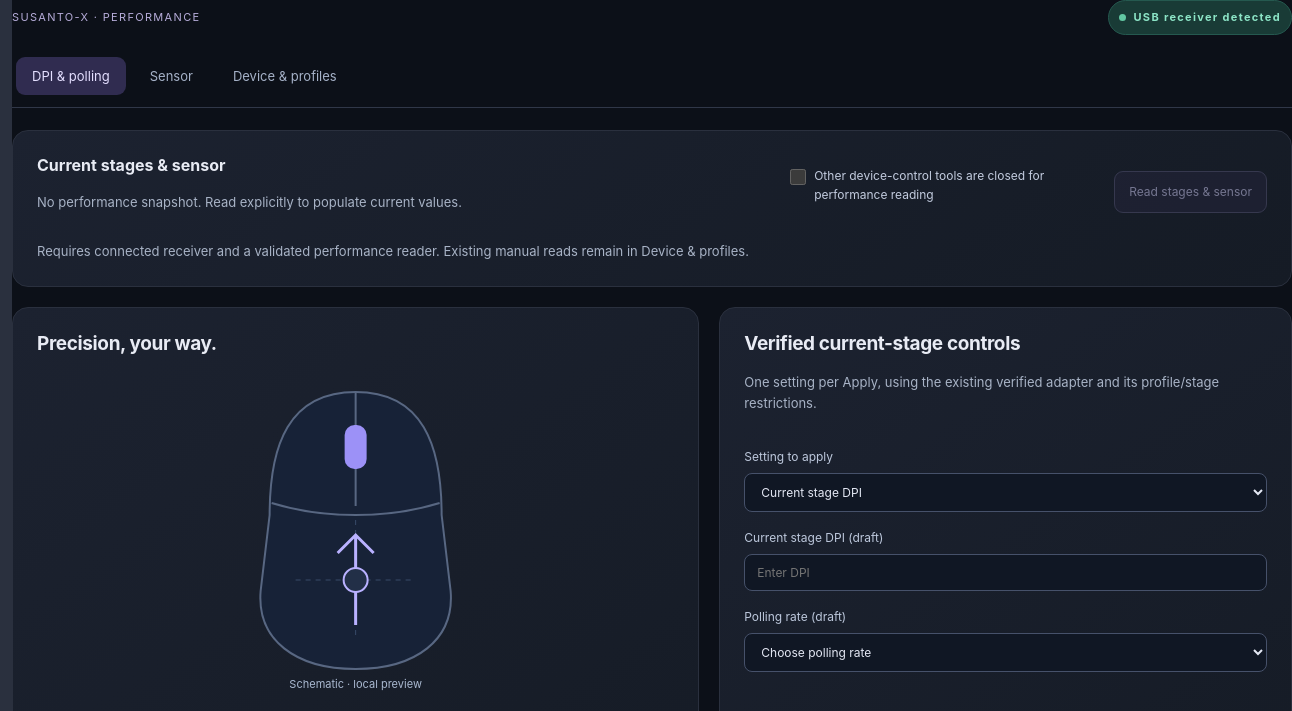
it: keeps drafts across accessible tabs without sending requests
In the number field labelled "Current stage DPI (draft)": (1006, 572) [744,554,1267,591], type "1200"
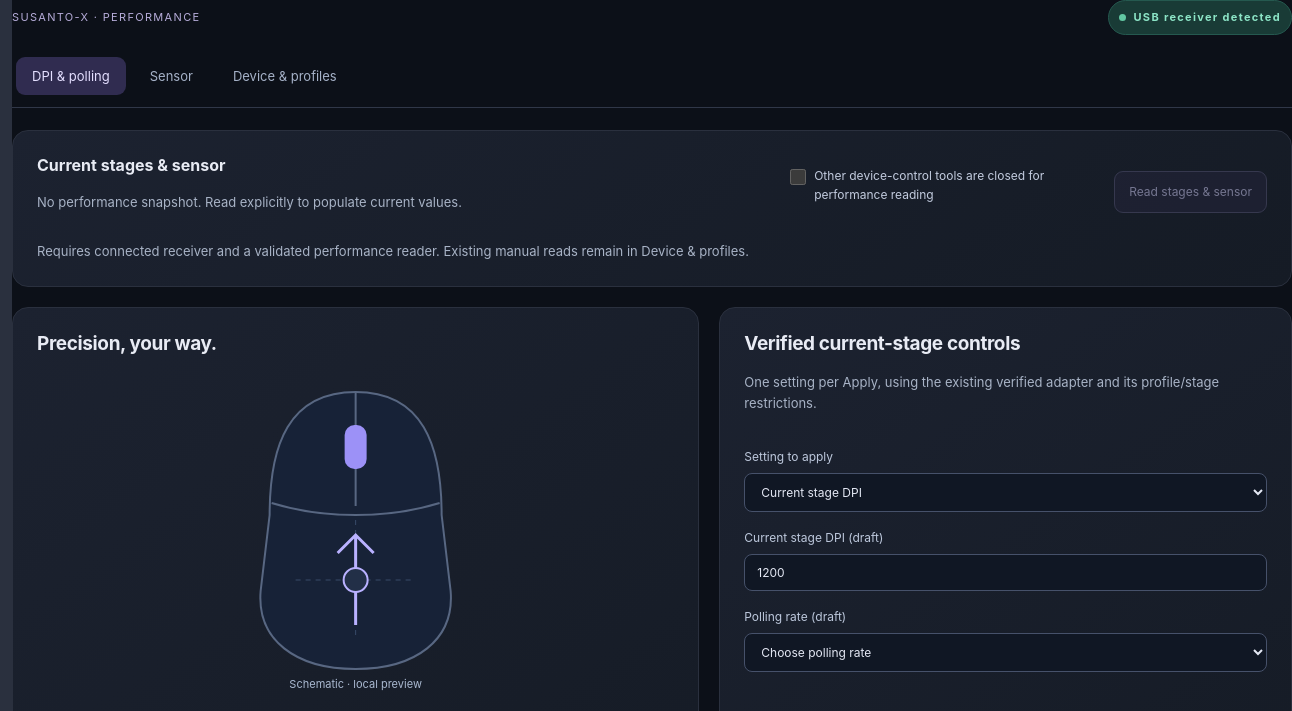
Click the tab "Sensor": (171, 76) [134,56,209,94]
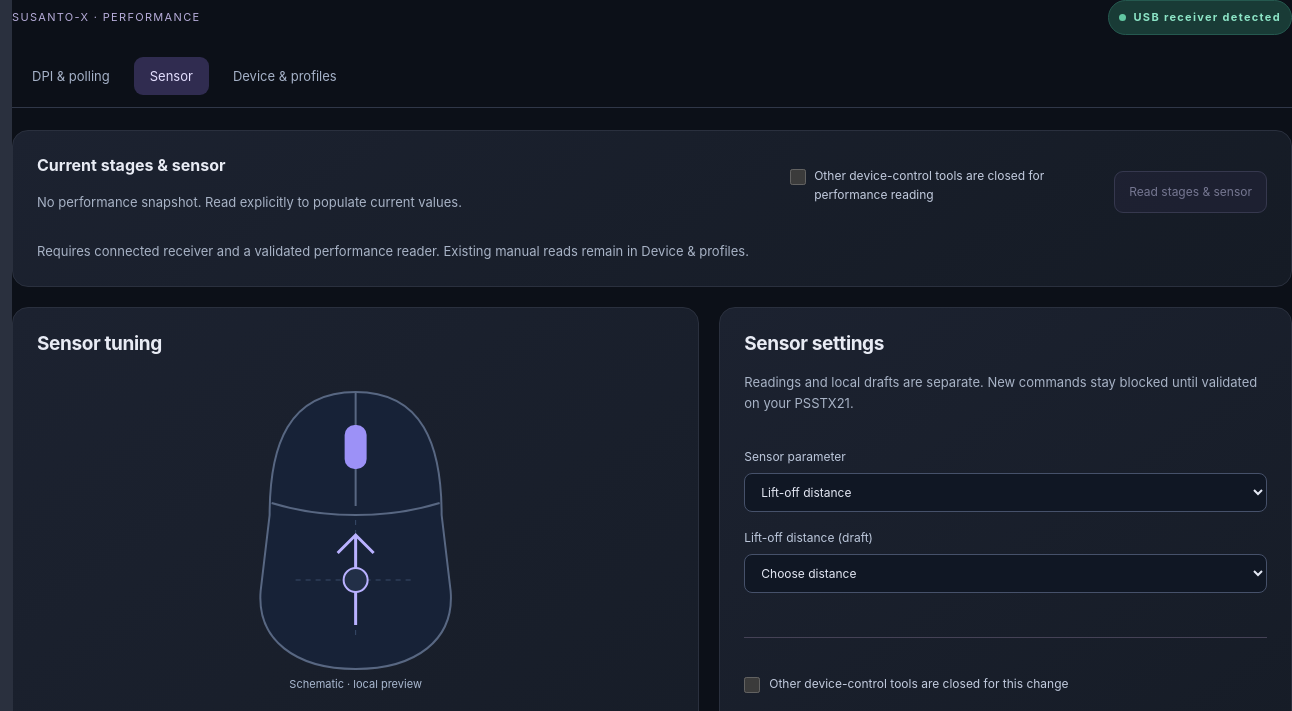
Press Home in the tab "Sensor", box [134,56,209,94]
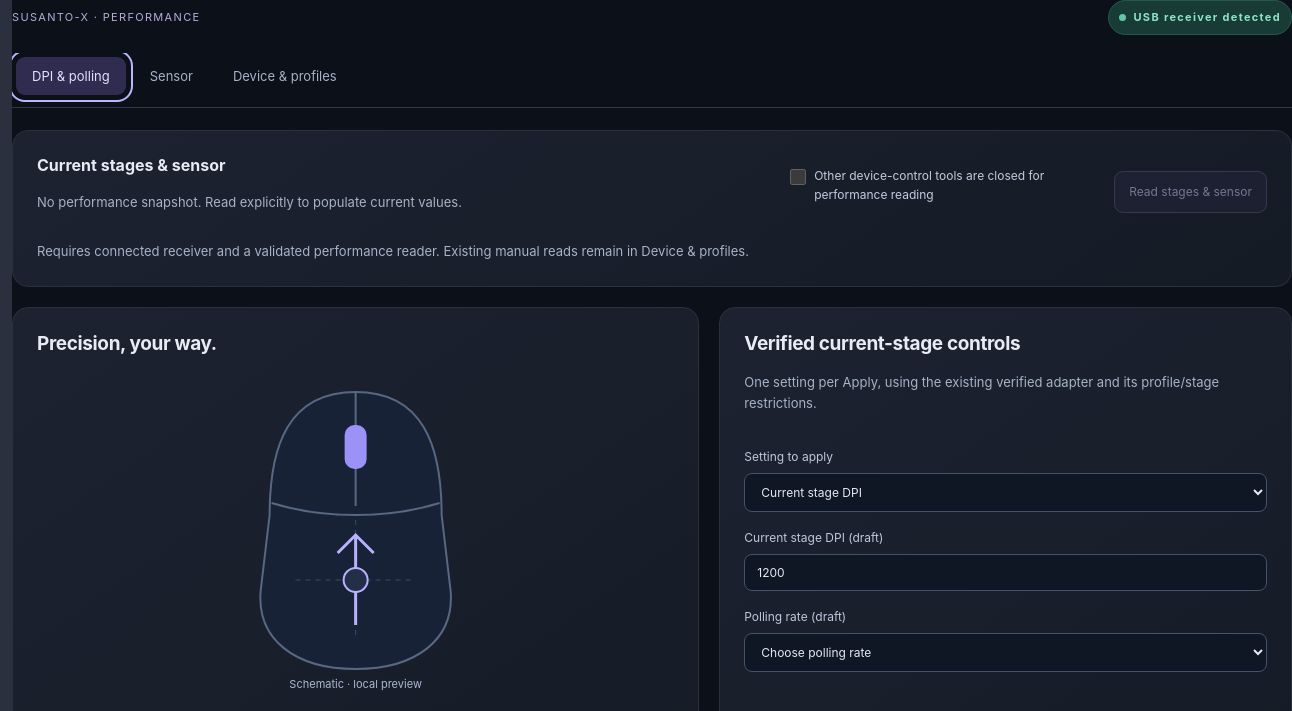
Result: the number field labelled "Current stage DPI (draft)" holds "1200" at [744,554,1267,591]
